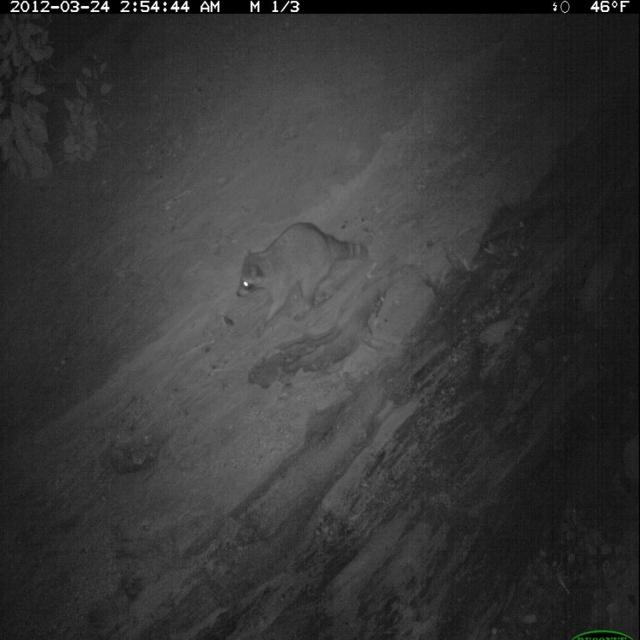raccoon: (233, 219, 373, 345)
